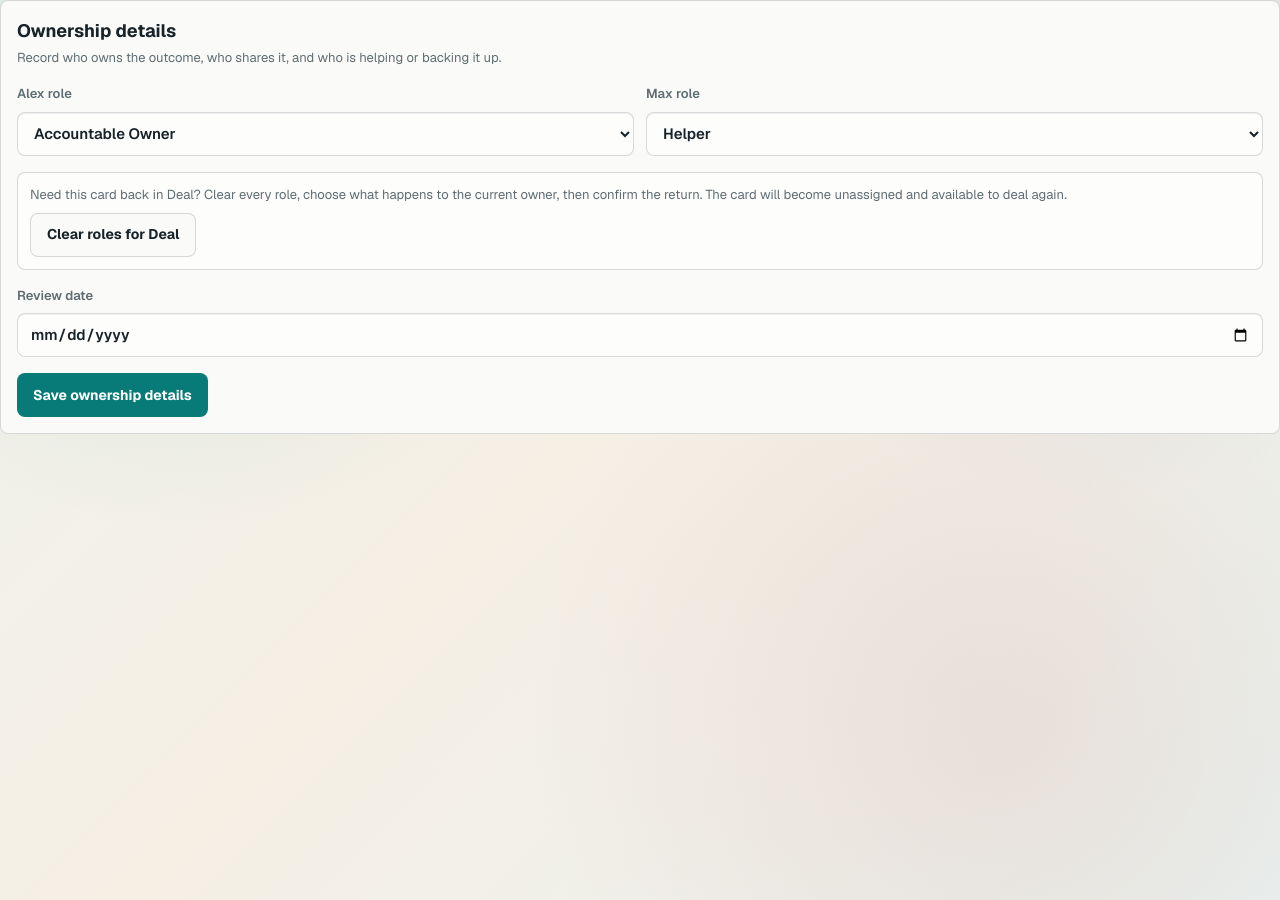
Test: OwnershipDetails › returns an owned card to Deal only through an explicit former-owner handoff
Click the button "Clear roles for Deal".
click(113, 234)  # box [30,212,196,256]
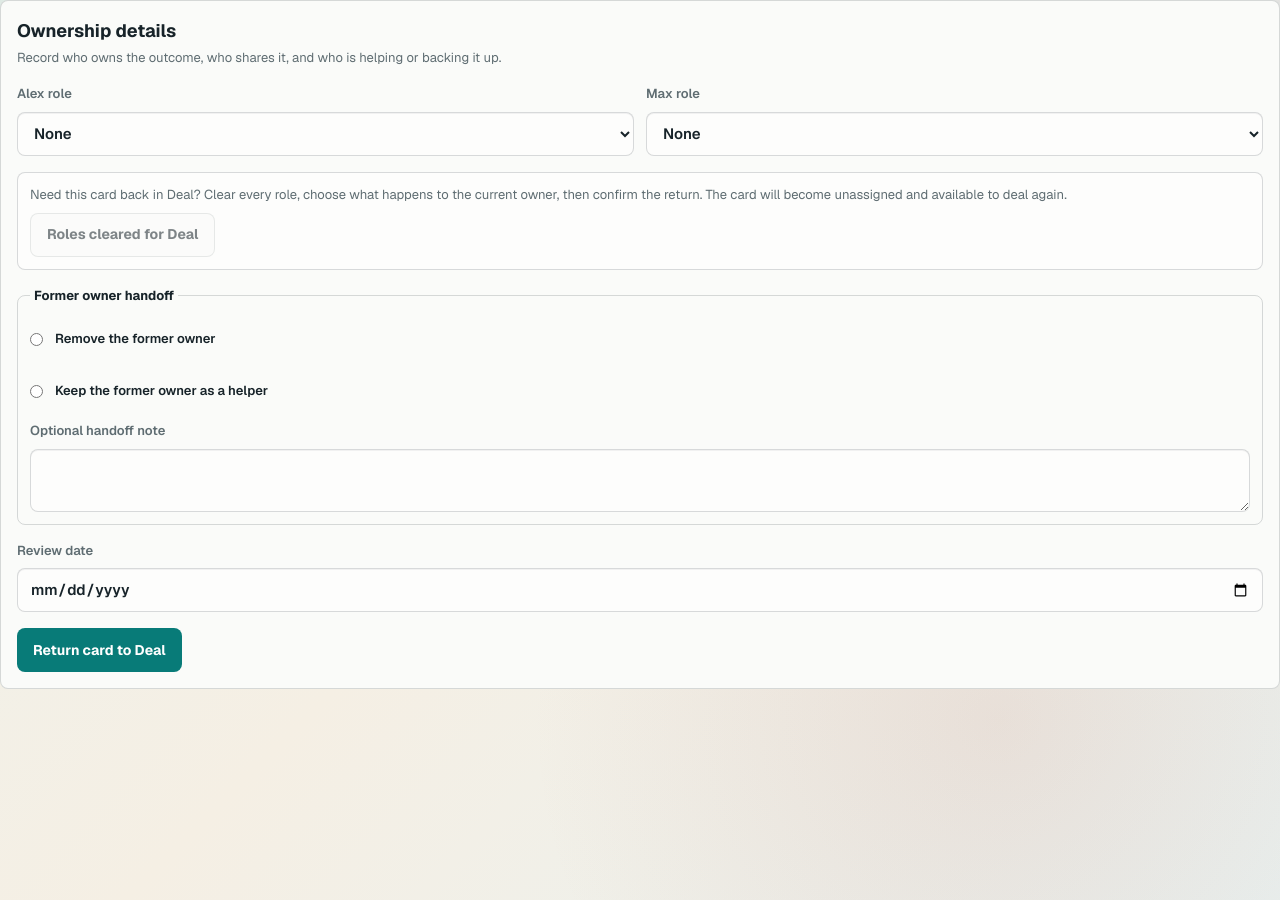
Expected: the dropdown labelled "Alex role" shows "None", [17,112,634,156]
Expected: the dropdown labelled "Max role" shows "None", [646,112,1263,156]
Click the radio button labelled "Remove the former owner".
click(36, 339)  # box [30,332,43,346]
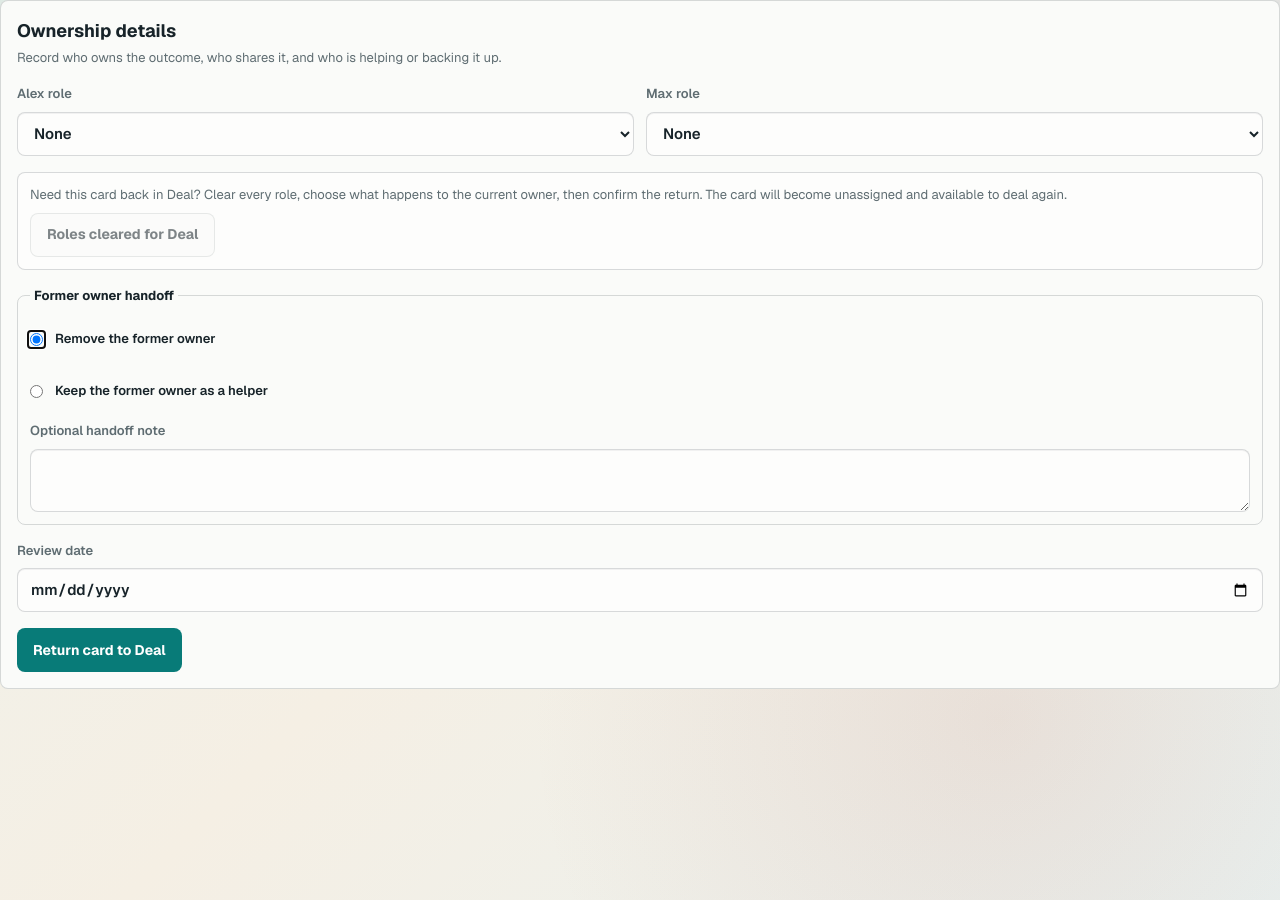
Click the button "Return card to Deal".
click(99, 650)  # box [17,628,182,672]
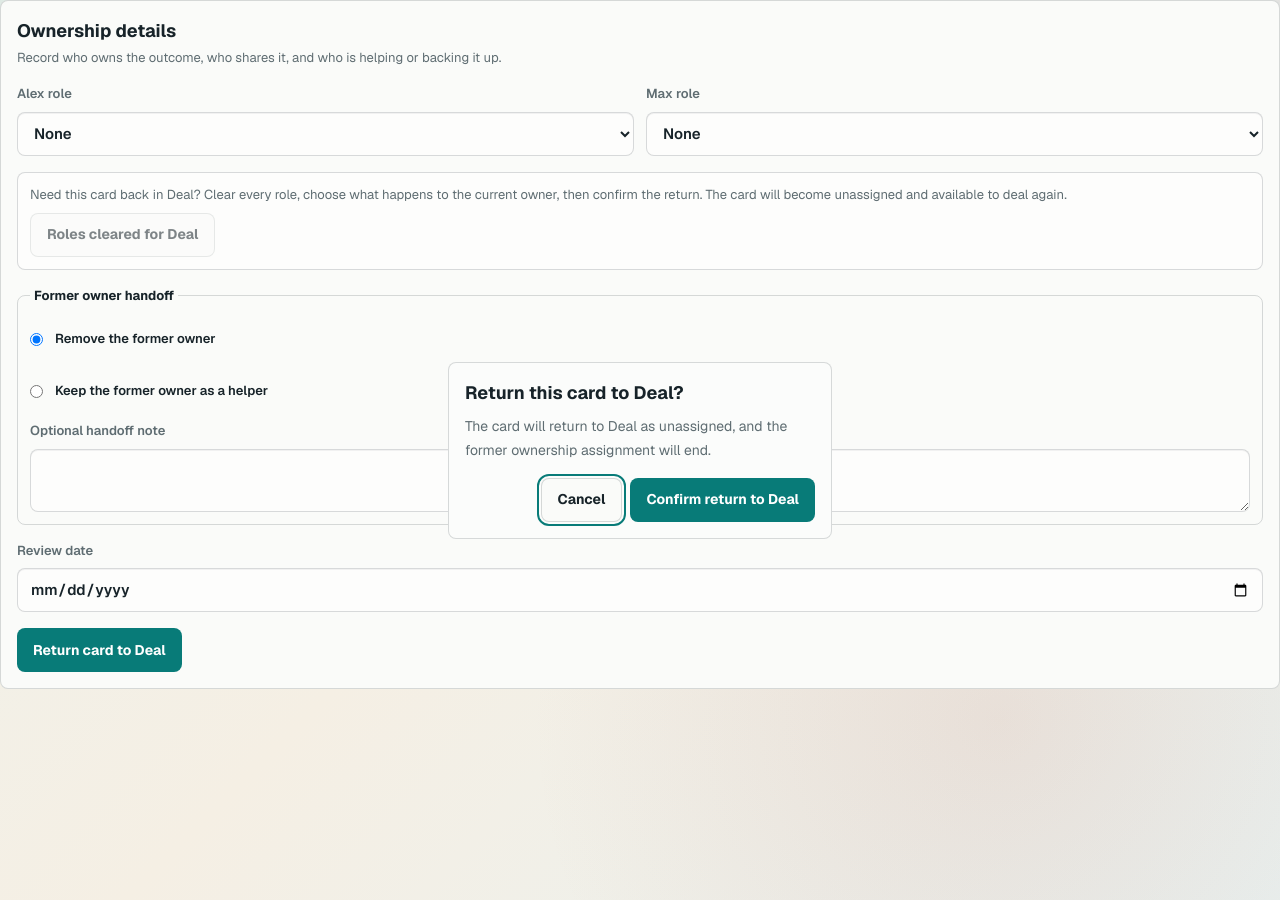
Click the button "Confirm return to Deal".
click(723, 500)  # box [630,478,815,522]
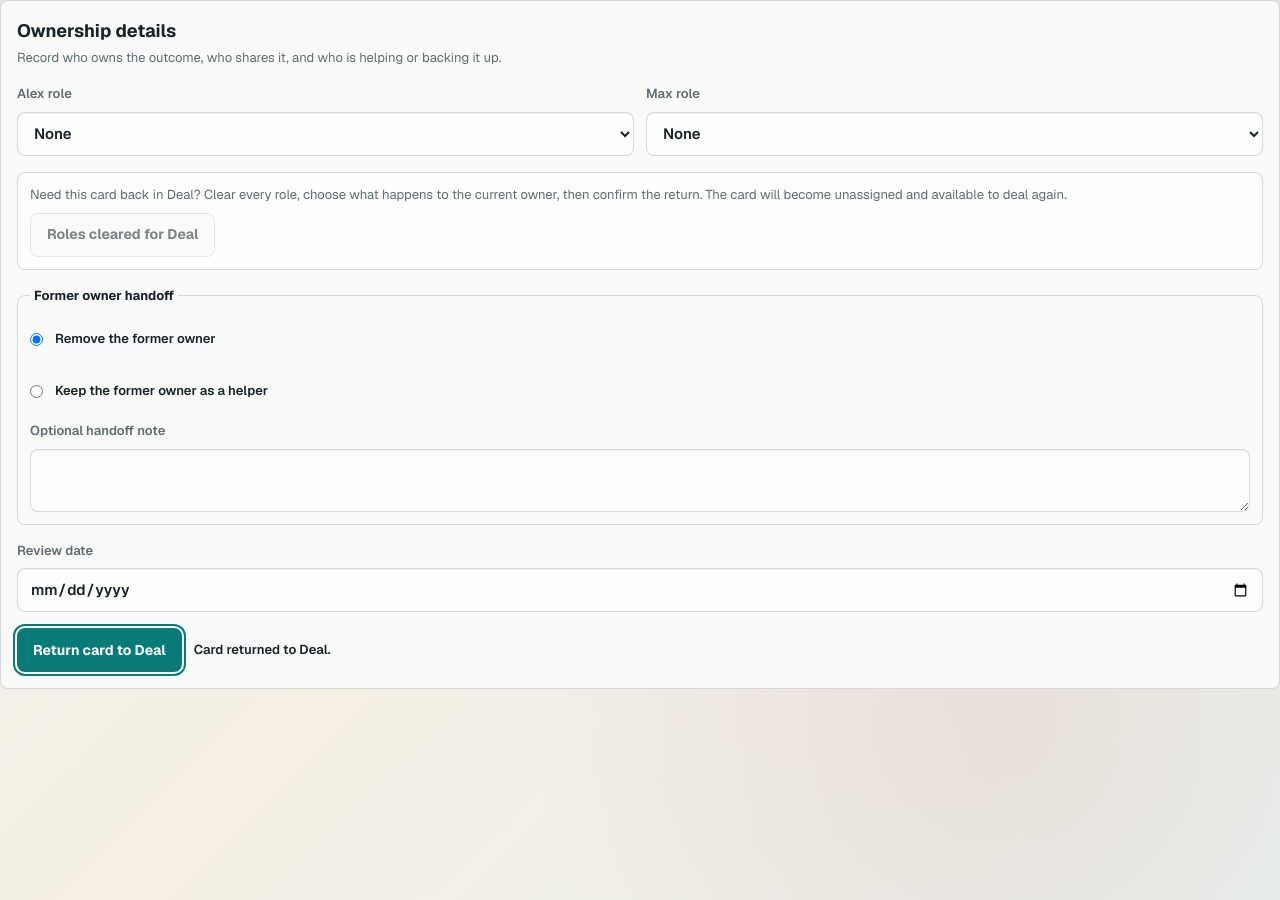
Expected: the message reads "Card returned to Deal.", [194,641,331,658]
